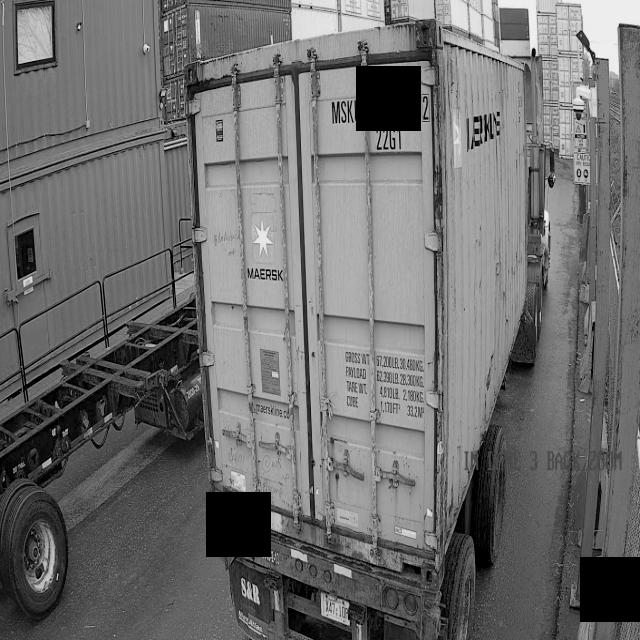container_company_logo: (248, 211, 285, 286)
container_number: (332, 87, 431, 150)
license_plate: (322, 591, 351, 622)
other_container_info: (334, 339, 421, 415)
truck_trailer: (0, 279, 218, 617)
truck_with_container: (203, 23, 556, 640)
